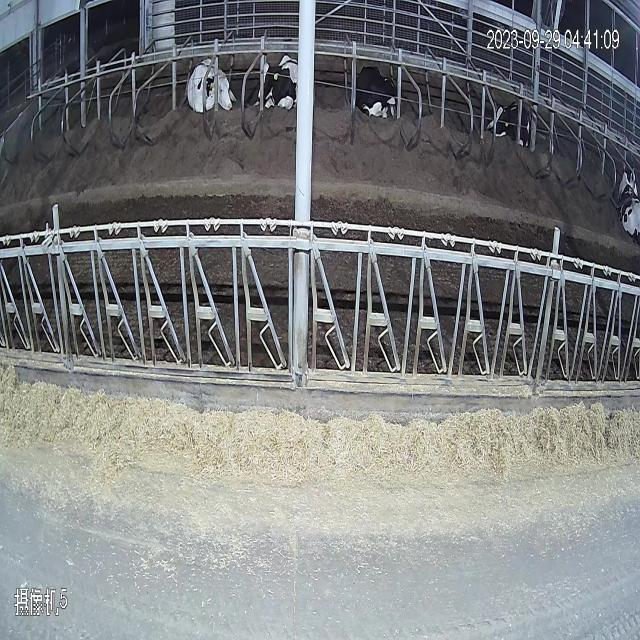lying down: (488, 83, 548, 175), (185, 40, 242, 134), (248, 38, 304, 126), (346, 51, 403, 137), (610, 156, 640, 256)
